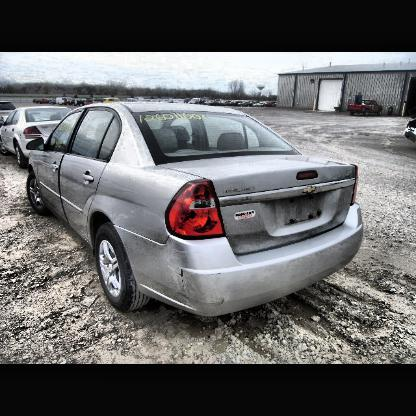Chevrolet Malibu Sedan 2007: (27, 104, 366, 319)
